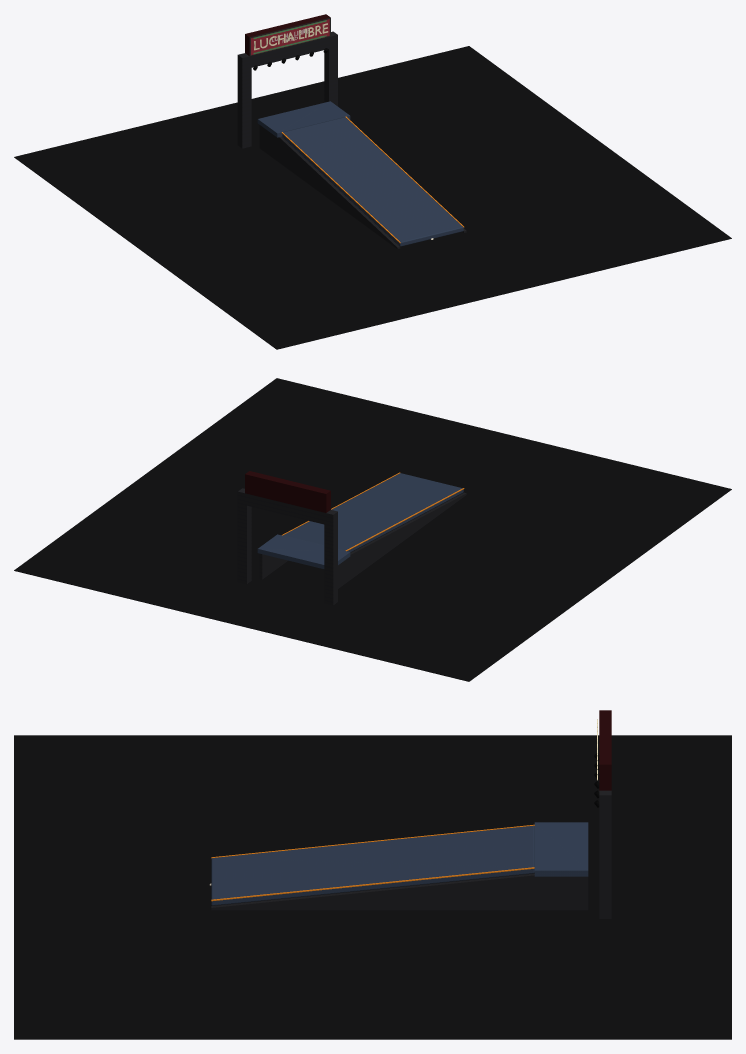
Rendered from rampa_lucha_libre_texturizada.obj.
The picture shows the model from 3 angles, top to bottom: view 1: azimuth 30°, elevation 25°; view 2: azimuth 150°, elevation 25°; view 3: azimuth 270°, elevation 25°; orthographic projection. The views are drawn at different scales.
Visible parts, largest first — view 1: Suelo_Referencia, Rampa_Principal, Faldon_Izquierdo, Letrero_Fondo, Plataforma_Entrada, Arco_Viga_Superior, Arco_Columna_Izquierda, Arco_Columna_Derecha; view 2: Suelo_Referencia, Rampa_Principal, Faldon_Izquierdo, Letrero_Fondo, Plataforma_Entrada, Arco_Viga_Superior, Arco_Columna_Derecha, Arco_Columna_Izquierda; view 3: Suelo_Referencia, Rampa_Principal, Faldon_Derecho, Plataforma_Entrada, Arco_Columna_Derecha, Letrero_Fondo, LED_Derecho.
Boxes of the visible parts, bbox=[...] form: Suelo_Referencia: bbox=[14, 46, 731, 349]; Rampa_Principal: bbox=[282, 117, 463, 246]; Faldon_Izquierdo: bbox=[259, 125, 400, 249]; Letrero_Fondo: bbox=[245, 14, 330, 56]; Plataforma_Entrada: bbox=[257, 101, 350, 137]; Arco_Viga_Superior: bbox=[237, 31, 337, 69]; Arco_Columna_Izquierda: bbox=[237, 67, 251, 148]; Arco_Columna_Derecha: bbox=[324, 47, 337, 106]; Suelo_Referencia: bbox=[14, 378, 731, 681]; Rampa_Principal: bbox=[283, 473, 463, 552]; Faldon_Izquierdo: bbox=[338, 492, 466, 588]; Letrero_Fondo: bbox=[245, 471, 330, 512]; Plataforma_Entrada: bbox=[257, 534, 350, 568]; Arco_Viga_Superior: bbox=[237, 488, 337, 526]; Arco_Columna_Derecha: bbox=[237, 503, 251, 584]; Arco_Columna_Izquierda: bbox=[324, 523, 337, 605]; Suelo_Referencia: bbox=[14, 735, 731, 1039]; Rampa_Principal: bbox=[211, 825, 534, 905]; Faldon_Derecho: bbox=[211, 873, 588, 910]; Plataforma_Entrada: bbox=[534, 822, 588, 876]; Arco_Columna_Derecha: bbox=[599, 811, 611, 918]; Letrero_Fondo: bbox=[599, 710, 611, 790]; LED_Derecho: bbox=[211, 867, 534, 901].
Bounding box in the file's own units: 20 × 4.79 × 20.
9 materials, 3 textured.
